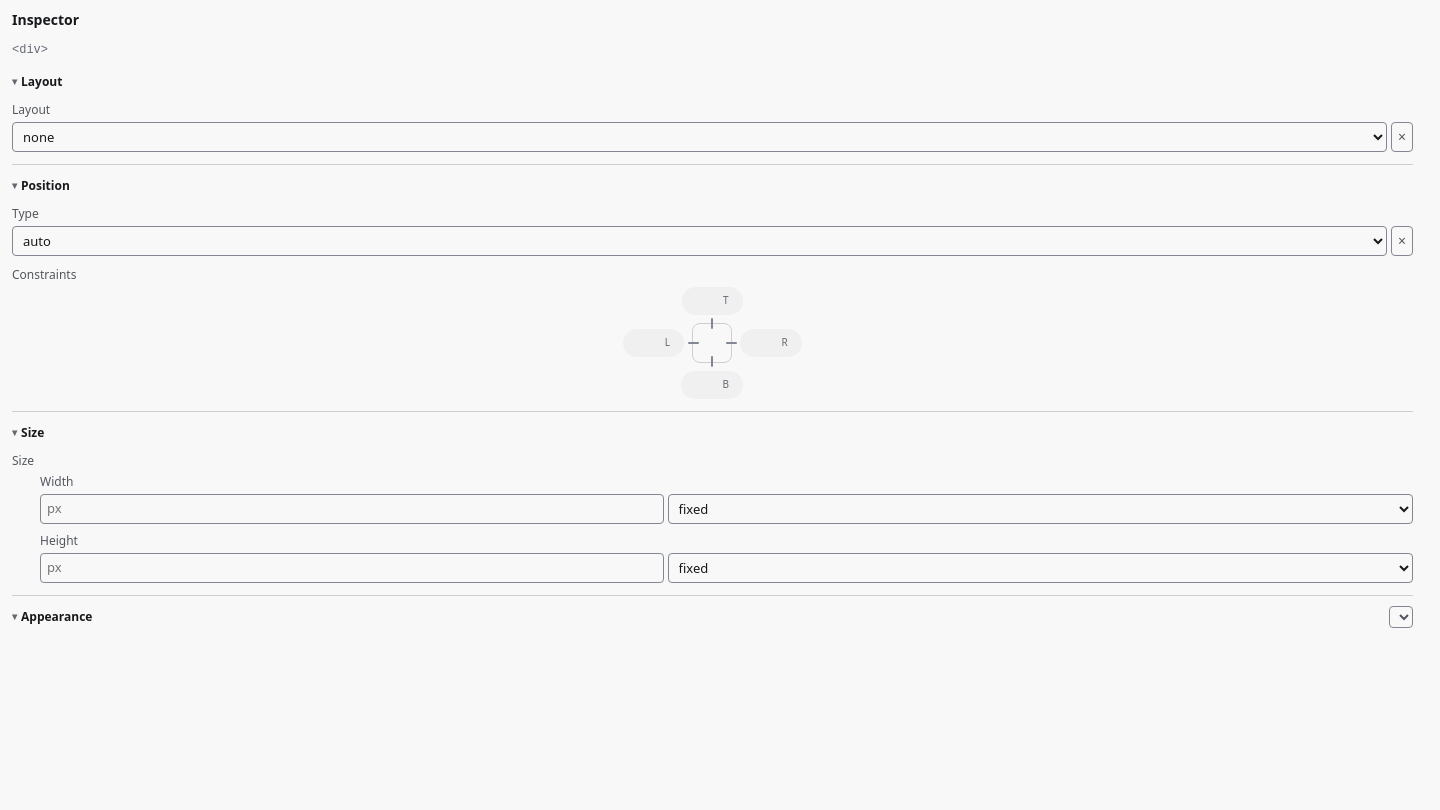
Test: Inspector › corner radius › opens per-corner mode with a value even from nothing
Select "Radius" in the dropdown with class "group__add". click: (1401, 617)
box: top-left (1389, 606), bottom-right (1413, 628)
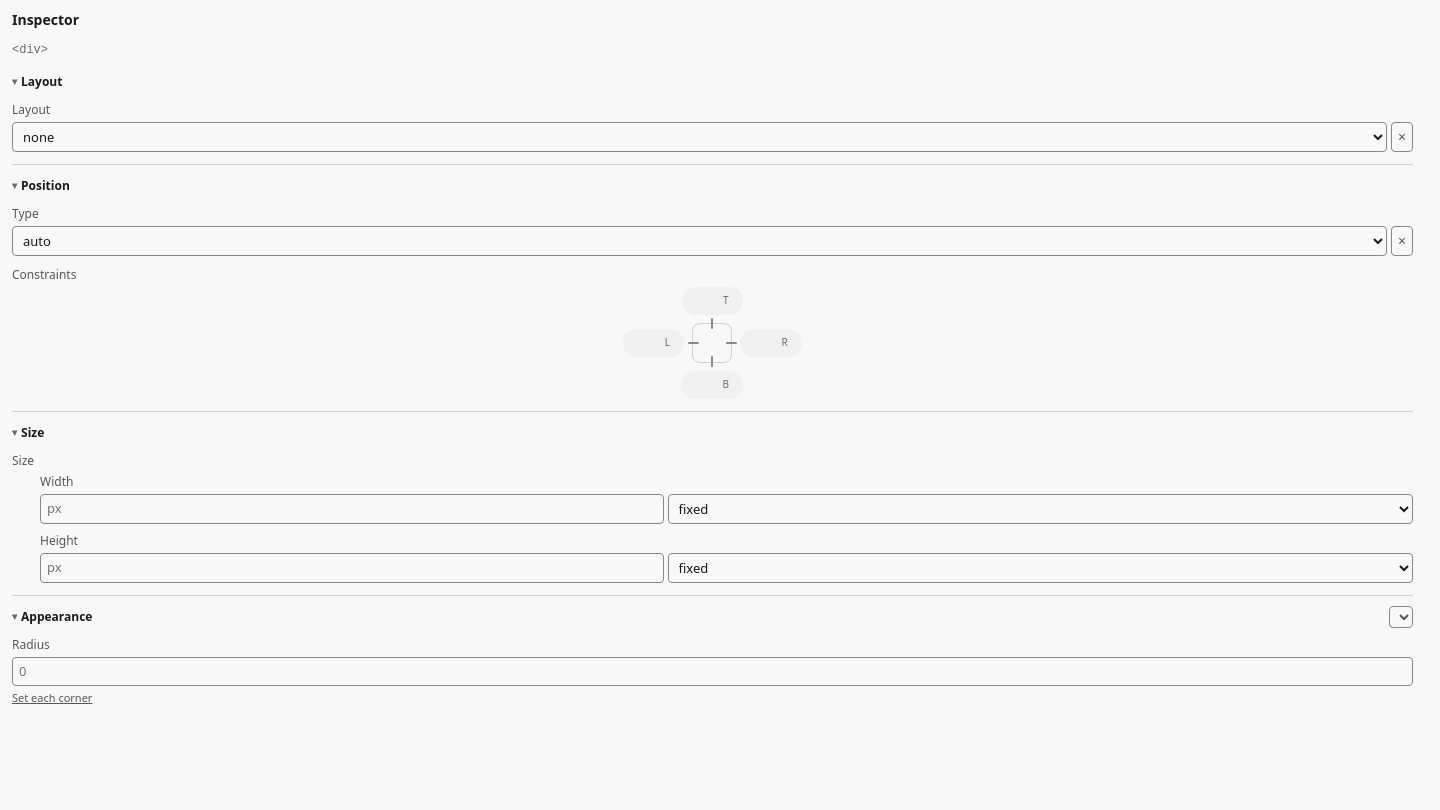
Click the button with class "radius__mode". click: click(52, 699)
box: top-left (12, 690), bottom-right (92, 707)
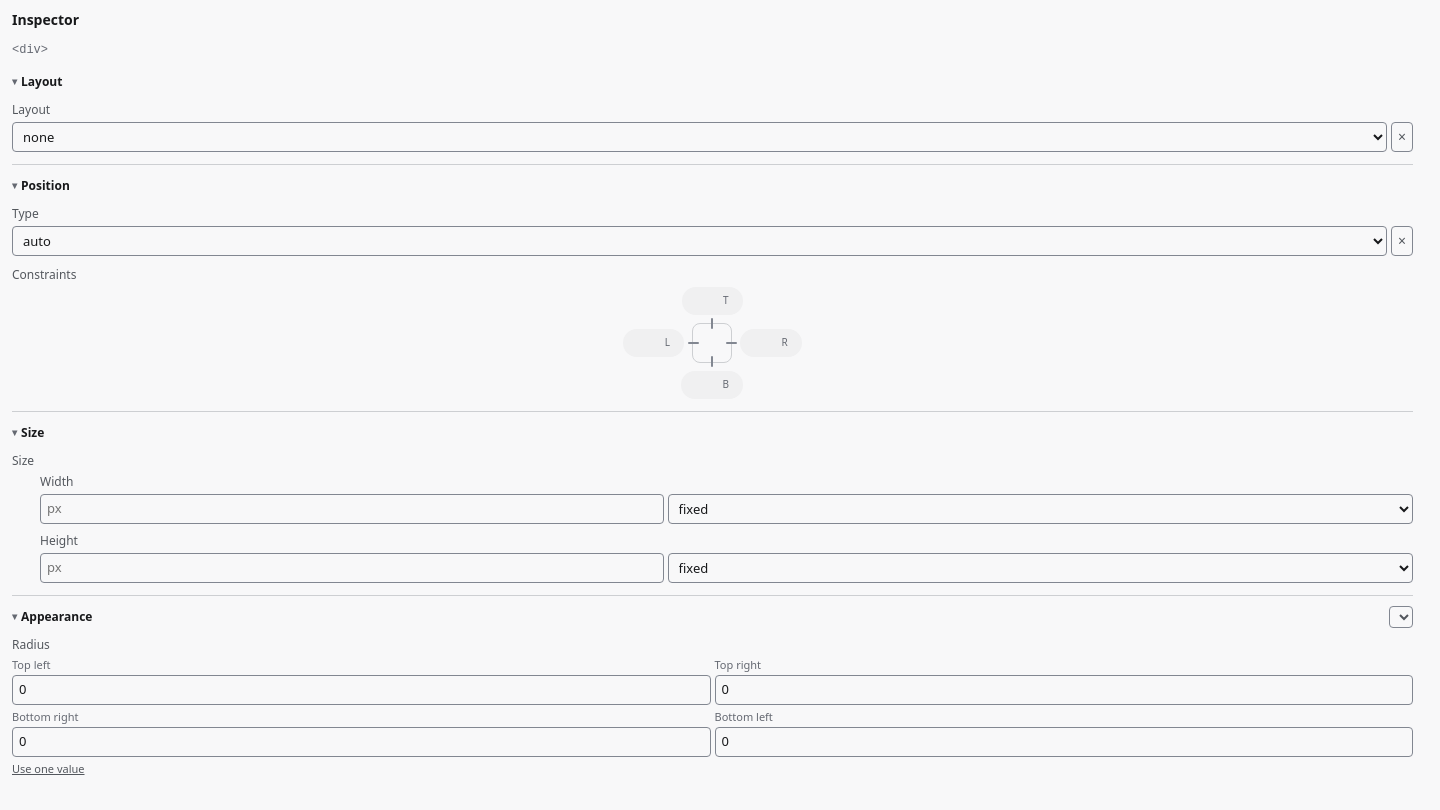
Check: the field with id "field-borderTopLeftRadius" is shown, box top-left (12, 675), bottom-right (710, 705)
